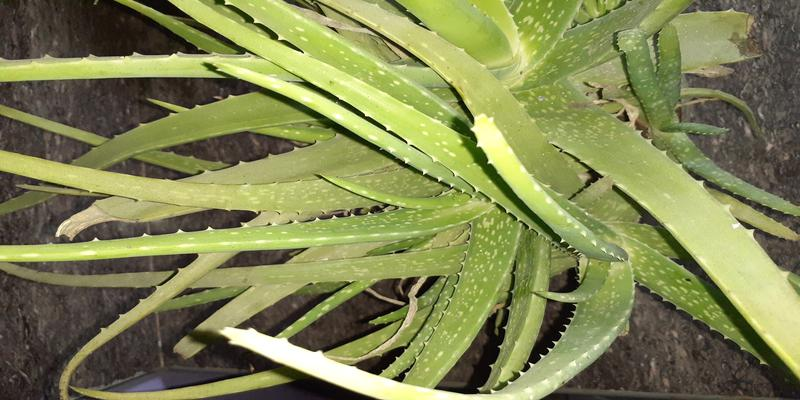Aloevera: (155, 2, 702, 330)
